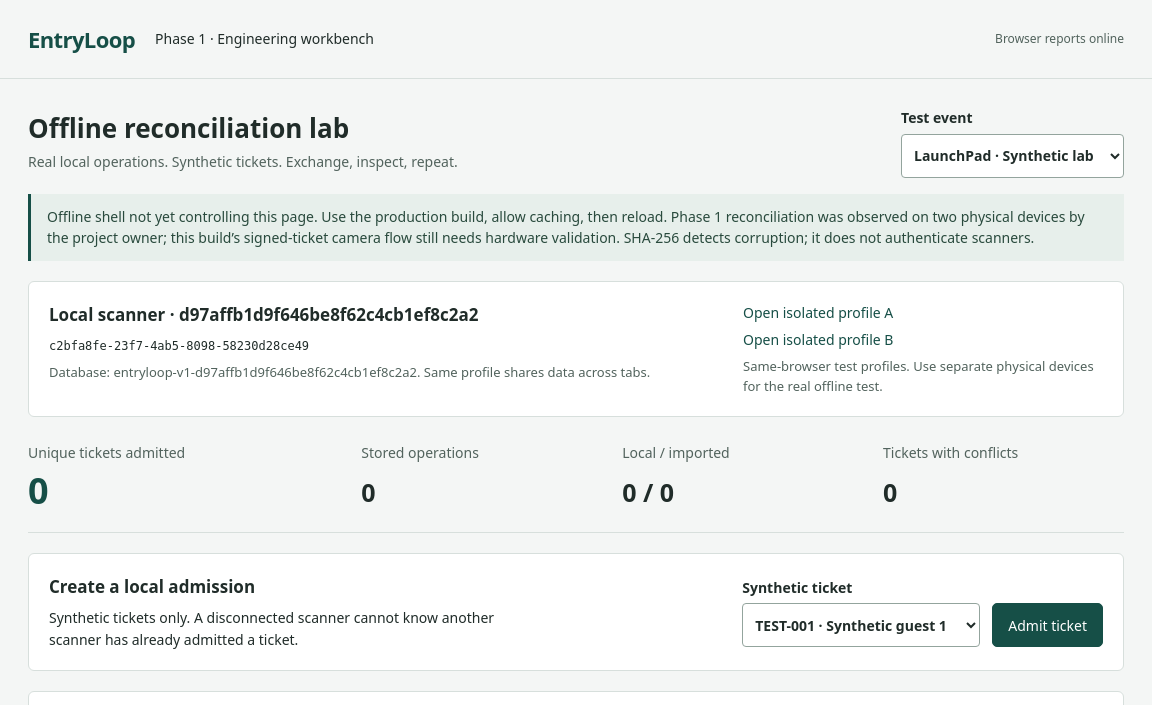
Test case: real workbench integration › creates, persists and rejects locally duplicate check-ins; events stay isolated
Click the button "Admit ticket".
click(1048, 625)  # box [992, 603, 1103, 647]
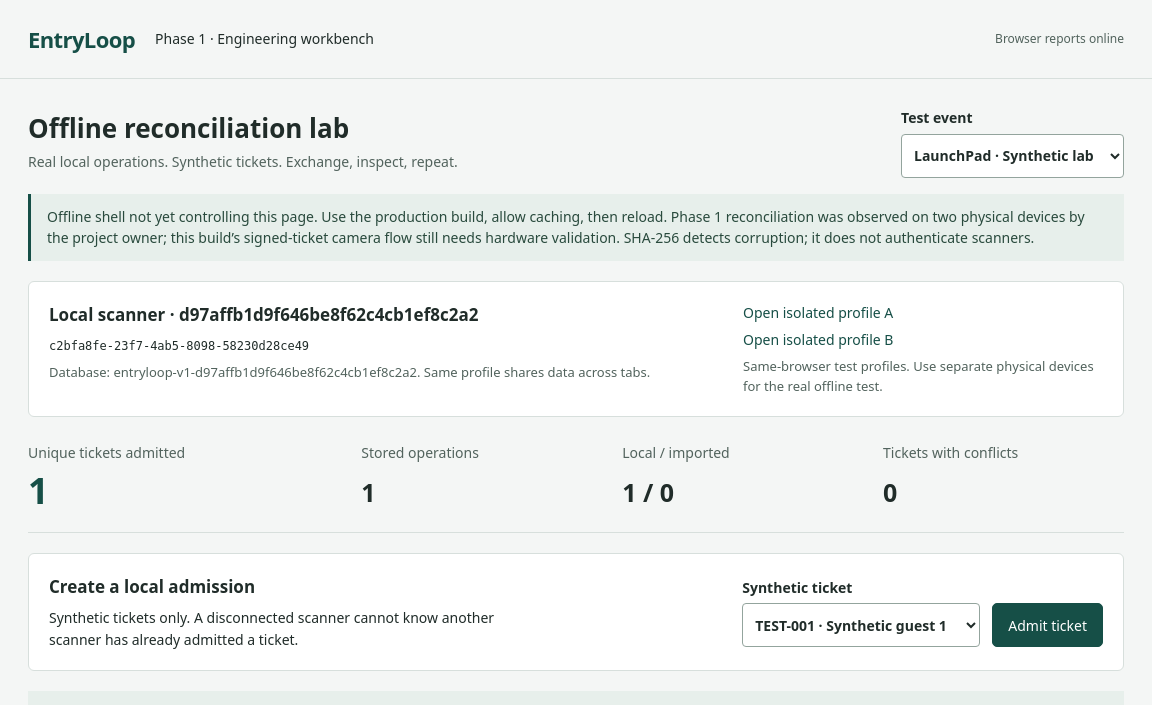
Expected: the text with test id "attendance" reads "1", [28, 466, 49, 514]
Click the button "Admit ticket".
click(1048, 625)  # box [992, 603, 1103, 647]
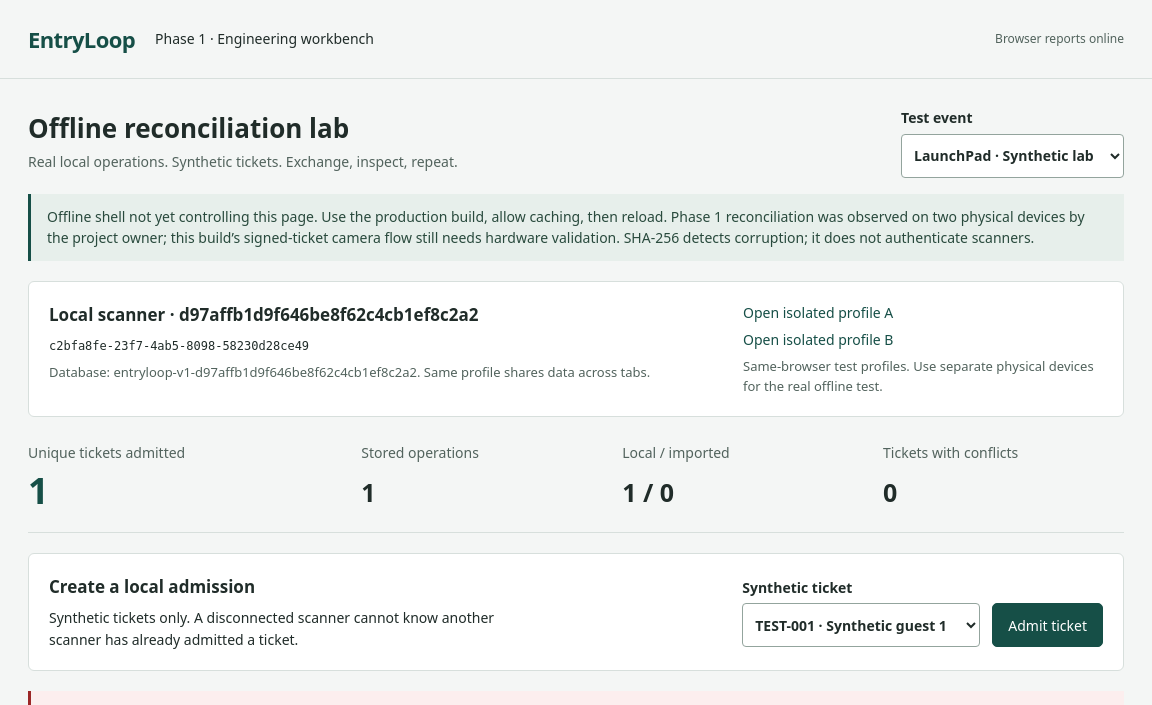
Select "Community · Synthetic lab" in the dropdown labelled "Test event" at (1012, 156), box [901, 134, 1124, 178]
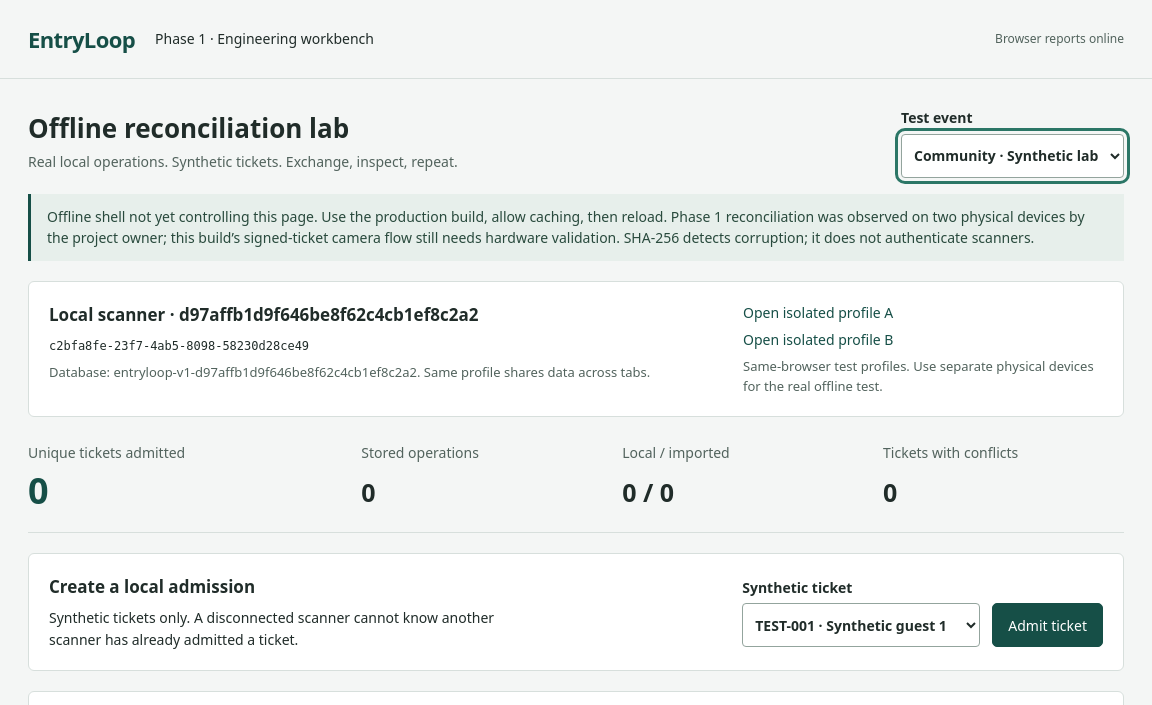
Expected: the text with test id "attendance" reads "0", [28, 466, 49, 514]
